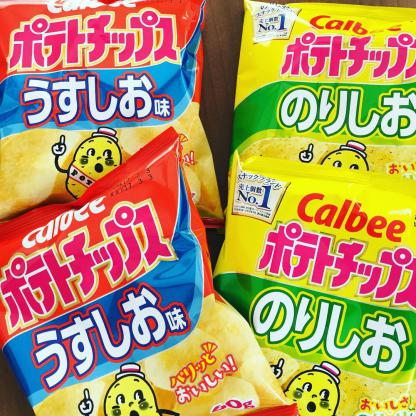potatochip: (0, 123, 303, 416), (0, 0, 229, 240), (213, 146, 416, 416), (211, 0, 415, 245)
